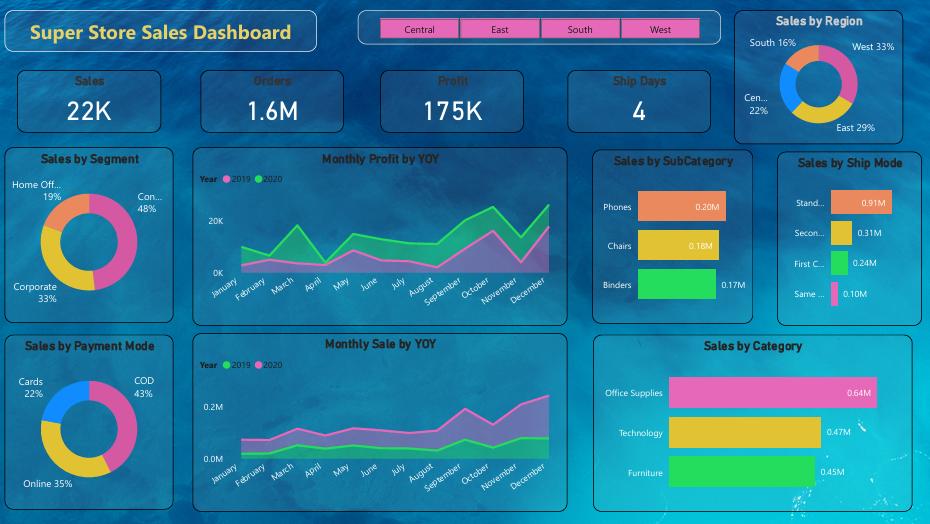

This screenshot's page, from the dashboard's own definition file:
{"tool":"powerbi","page":{"name":"Page 1","canvas":[1280,720],"ordinal":0},"visuals":[{"type":"clusteredBarChart","title":" Sales by SubCategory","fields":{"Category":["SuperStore_Sales_Dataset.Sub-Category"],"Y":["Sum(SuperStore_Sales_Dataset.Sales)"]},"box":[813.6,207.4,221.8,239],"z":0},{"type":"clusteredBarChart","title":" Sales by Ship Mode","fields":{"Category":["SuperStore_Sales_Dataset.Ship Mode"],"Y":["Sum(SuperStore_Sales_Dataset.Sales)"]},"box":[1068.5,210.2,198.7,239],"z":1000},{"type":"clusteredBarChart","title":" Sales by Category","fields":{"Category":["SuperStore_Sales_Dataset.Category"],"Y":["Sum(SuperStore_Sales_Dataset.Sales)"]},"box":[815,460.8,439.2,243.4],"z":2000},{"type":"stackedAreaChart","title":" Monthly Sale  by YOY","fields":{"Category":["SuperStore_Sales_Dataset.Order Date.Variation.Date Hierarchy.Month","SuperStore_Sales_Dataset.Order Date.Variation.Date Hierarchy.Day"],"Y":["Sum(SuperStore_Sales_Dataset.Sales)"],"Series":["SuperStore_Sales_Dataset.Order Date.Variation.Date Hierarchy.Year"]},"box":[265,459.4,515.5,244.8],"z":3000},{"type":"stackedAreaChart","title":" Monthly Profit by YOY","fields":{"Category":["SuperStore_Sales_Dataset.Order Date.Variation.Date Hierarchy.Month","SuperStore_Sales_Dataset.Order Date.Variation.Date Hierarchy.Day"],"Series":["SuperStore_Sales_Dataset.Order Date.Variation.Date Hierarchy.Year"],"Y":["Sum(SuperStore_Sales_Dataset.Profit)"]},"box":[265,204.5,515.5,244.8],"z":4000},{"type":"donutChart","title":"Sales by Segment","fields":{"Category":["SuperStore_Sales_Dataset.Segment"],"Y":["Sum(SuperStore_Sales_Dataset.Sales)"]},"box":[7.2,204.5,231.8,240.5],"z":5000},{"type":"donutChart","title":"Sales by Payment Mode","fields":{"Category":["SuperStore_Sales_Dataset.Payment Mode"],"Y":["Sum(SuperStore_Sales_Dataset.Sales)"]},"box":[7.2,460.8,231.8,240.5],"z":6000},{"type":"textbox","box":[7.2,15.8,429.1,57.6],"z":7000},{"type":"slicer","fields":{"Values":["SuperStore_Sales_Dataset.Region"]},"box":[492.5,15.8,498.2,47.5],"z":8000},{"type":"card","title":"Sales","fields":{"Values":["Sum(SuperStore_Sales_Dataset.Quantity)"]},"box":[24.5,97.9,197.3,86.4],"z":9000},{"type":"card","title":"Profit","fields":{"Values":["Sum(SuperStore_Sales_Dataset.Profit)"]},"box":[522.7,97.9,197,86.4],"z":10000},{"type":"card","title":"Ship Days","fields":{"Values":["Avg(SuperStore_Sales_Dataset.AvgDelivery)"]},"box":[780.5,97.9,197,86.4],"z":11000},{"type":"card","title":"Orders","fields":{"Values":["Sum(SuperStore_Sales_Dataset.Sales)"]},"box":[276.5,97.9,197,86.4],"z":12000},{"type":"donutChart","title":"Sales by Region","fields":{"Category":["SuperStore_Sales_Dataset.Region"],"Y":["Sum(SuperStore_Sales_Dataset.Sales)"]},"box":[1009.4,15.8,231.8,184.3],"z":13000}]}

Visuals, with their boxes in screenshot pixels (x1, y1, x2, y2), scaled from the page's 1280x720 canvas onto the 930x524 screenshot:
" Sales by SubCategory" clusteredBarChart: 591:151:752:325
" Sales by Ship Mode" clusteredBarChart: 776:153:921:327
" Sales by Category" clusteredBarChart: 592:335:911:513
" Monthly Sale  by YOY" stackedAreaChart: 193:334:567:513
" Monthly Profit by YOY" stackedAreaChart: 193:149:567:327
"Sales by Segment" donutChart: 5:149:174:324
"Sales by Payment Mode" donutChart: 5:335:174:510
textbox: 5:11:317:53
slicer - SuperStore_Sales_Dataset.Region: 358:11:720:46
"Sales" card: 18:71:161:134
"Profit" card: 380:71:523:134
"Ship Days" card: 567:71:710:134
"Orders" card: 201:71:344:134
"Sales by Region" donutChart: 733:11:902:146
